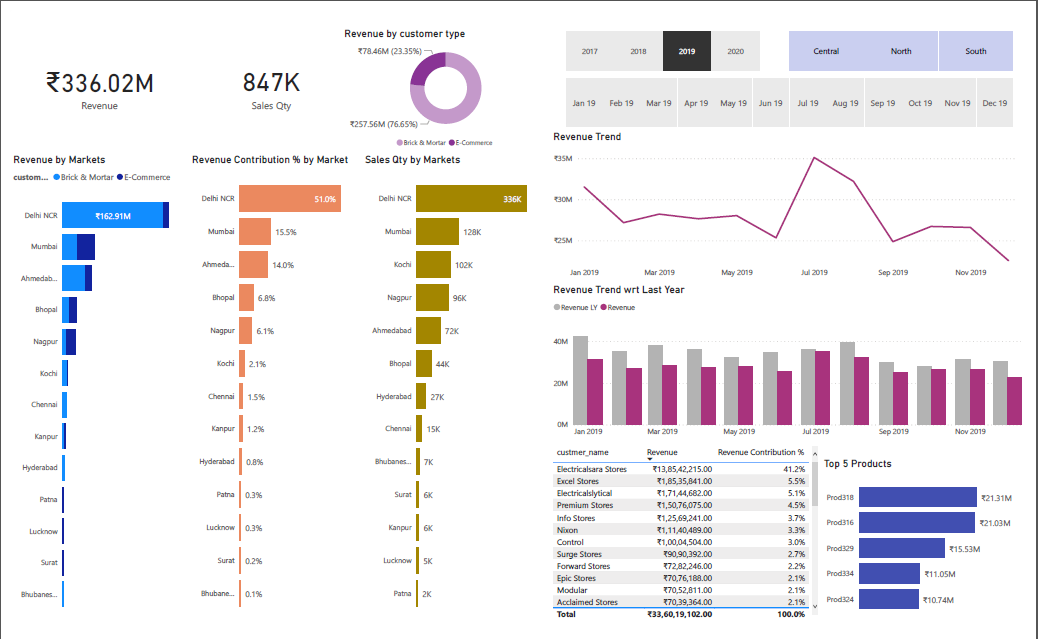

The dashboard page shown, as its layout file describes it:
{"tool":"powerbi","page":{"name":"Page 2","canvas":[1680,1000],"ordinal":1},"visuals":[{"type":"card","fields":{"Values":["BaseMeasures.Revenue"]},"box":[0,0,295.4,225.5],"z":0},{"type":"card","fields":{"Values":["BaseMeasures.Sales Qty"]},"box":[315.4,0,231.5,223.6],"z":1000},{"type":"barChart","title":"Revenue by Markets","fields":{"Y":["BaseMeasures.Revenue"],"Category":["sales markets.markets_name"],"Series":["sales customers.customer_type"]},"box":[0,223.6,295.4,776.4],"z":2000},{"type":"barChart","title":"Sales Qty by Markets","fields":{"Y":["BaseMeasures.Sales Qty"],"Category":["sales markets.markets_name"]},"box":[580.8,223.6,311.4,776.4],"z":3000},{"type":"slicer","fields":{"Values":["sales date.year"]},"box":[892.2,16,369.3,77.8],"z":4000},{"type":"slicer","fields":{"Values":["sales date.cy_date"]},"box":[892.2,93.8,788.4,91.8],"z":5000},{"type":"tableEx","title":"Top 5 Customers","fields":{"Values":["sales customers.custmer_name","BaseMeasures.Revenue","BaseMeasures.Revenue Contribution"]},"box":[892.2,702.6,447.1,297.4],"z":6000},{"type":"barChart","title":"Top 5 Products","fields":{"Category":["sales transactions.product_code"],"Y":["BaseMeasures.Revenue"]},"box":[1339.3,726.5,341.3,273.5],"z":7000},{"type":"lineChart","title":"Revenue Trend","fields":{"Y":["BaseMeasures.Revenue"],"Category":["sales date.cy_date"]},"box":[892.2,185.6,788.4,253.5],"z":8000},{"type":"slicer","fields":{"Values":["sales markets.zone"]},"box":[1260.8,16,419.2,77.8],"z":9000},{"type":"barChart","title":"Revenue Contribution % by Market","fields":{"Y":["BaseMeasures.Revenue Contribution"],"Category":["sales markets.markets_name"]},"box":[295.4,223.6,285.4,776.4],"z":10000},{"type":"donutChart","title":"Revenue by customer type","fields":{"Category":["sales customers.customer_type"],"Y":["BaseMeasures.Revenue"]},"box":[546.9,16,345.3,207.6],"z":11000},{"type":"lineClusteredColumnComboChart","title":"Revenue Trend wrt Last Year","fields":{"Category":["sales date.cy_date"],"Y":["BaseMeasures.Revenue LY","BaseMeasures.Revenue"]},"box":[892.2,439.1,788.4,263.5],"z":12000}]}

Visuals, with their boxes on the page's 1680x1000 design canvas (x1, y1, x2, y2). These are canvas units, not pixel positions in the 1038x639 screenshot, which may show the page scaled, cropped or inside an application window:
card - BaseMeasures.Revenue: BBox(0, 0, 295, 226)
card - BaseMeasures.Sales Qty: BBox(315, 0, 547, 224)
"Revenue by Markets" barChart: BBox(0, 224, 295, 1000)
"Sales Qty by Markets" barChart: BBox(581, 224, 892, 1000)
slicer - sales date.year: BBox(892, 16, 1262, 94)
slicer - sales date.cy_date: BBox(892, 94, 1681, 186)
"Top 5 Customers" tableEx: BBox(892, 703, 1339, 1000)
"Top 5 Products" barChart: BBox(1339, 726, 1681, 1000)
"Revenue Trend" lineChart: BBox(892, 186, 1681, 439)
slicer - sales markets.zone: BBox(1261, 16, 1680, 94)
"Revenue Contribution % by Market" barChart: BBox(295, 224, 581, 1000)
"Revenue by customer type" donutChart: BBox(547, 16, 892, 224)
"Revenue Trend wrt Last Year" lineClusteredColumnComboChart: BBox(892, 439, 1681, 703)
